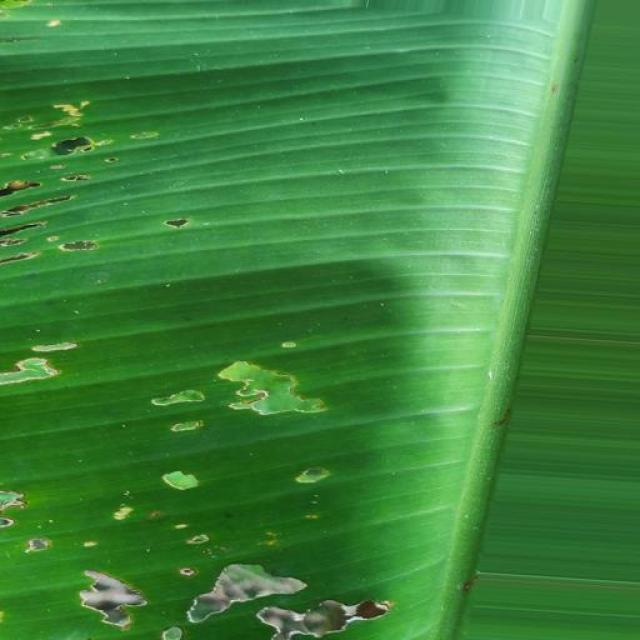Black_rot: (78, 502, 436, 634), (0, 89, 197, 286), (142, 336, 325, 450), (122, 453, 375, 528), (0, 330, 77, 411), (2, 474, 53, 578), (5, 2, 78, 31)
